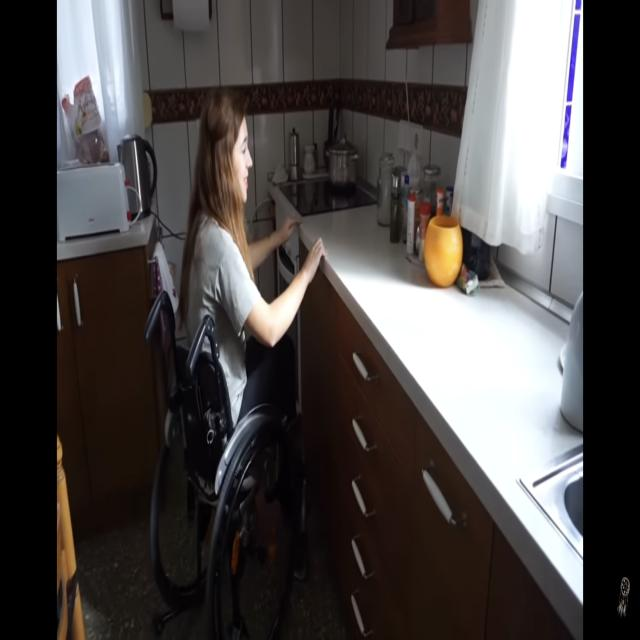wheelchairs: (140, 295, 302, 640)
